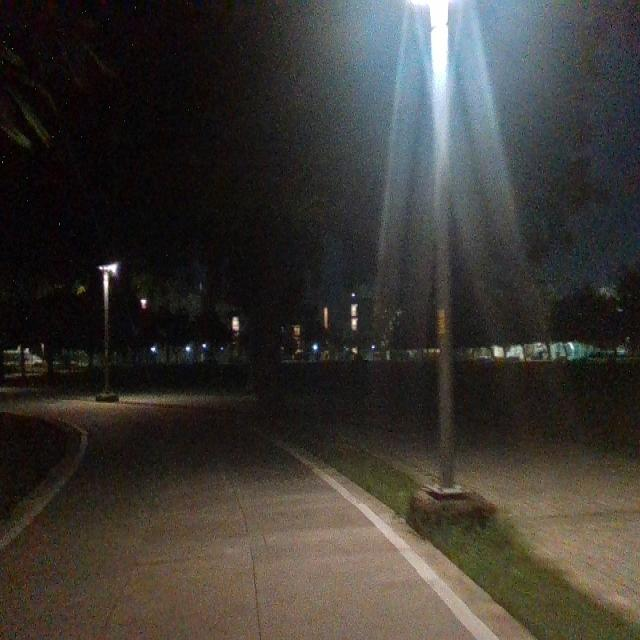lane: (8, 404, 476, 639)
